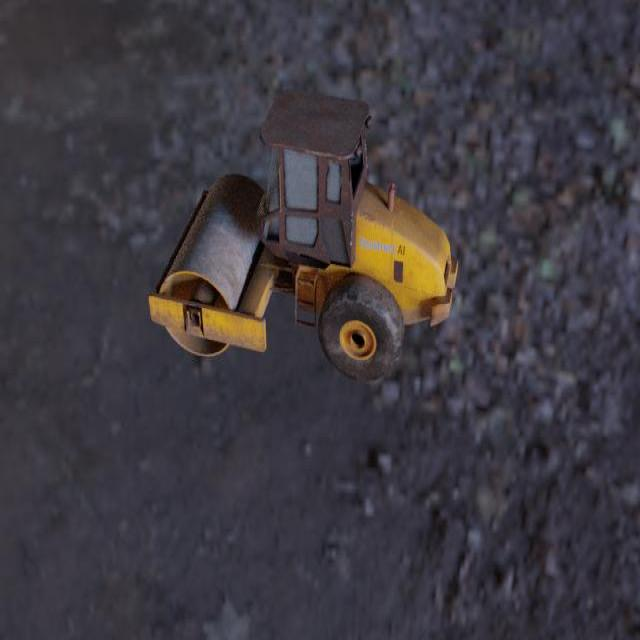Roller: (148, 88, 458, 381)
